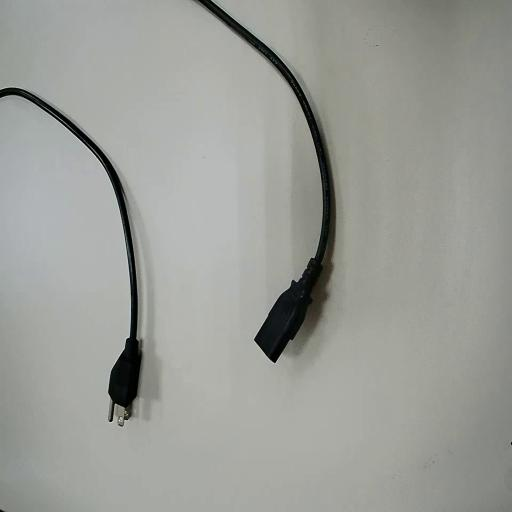wire: (199, 0, 334, 361), (0, 88, 141, 417)
